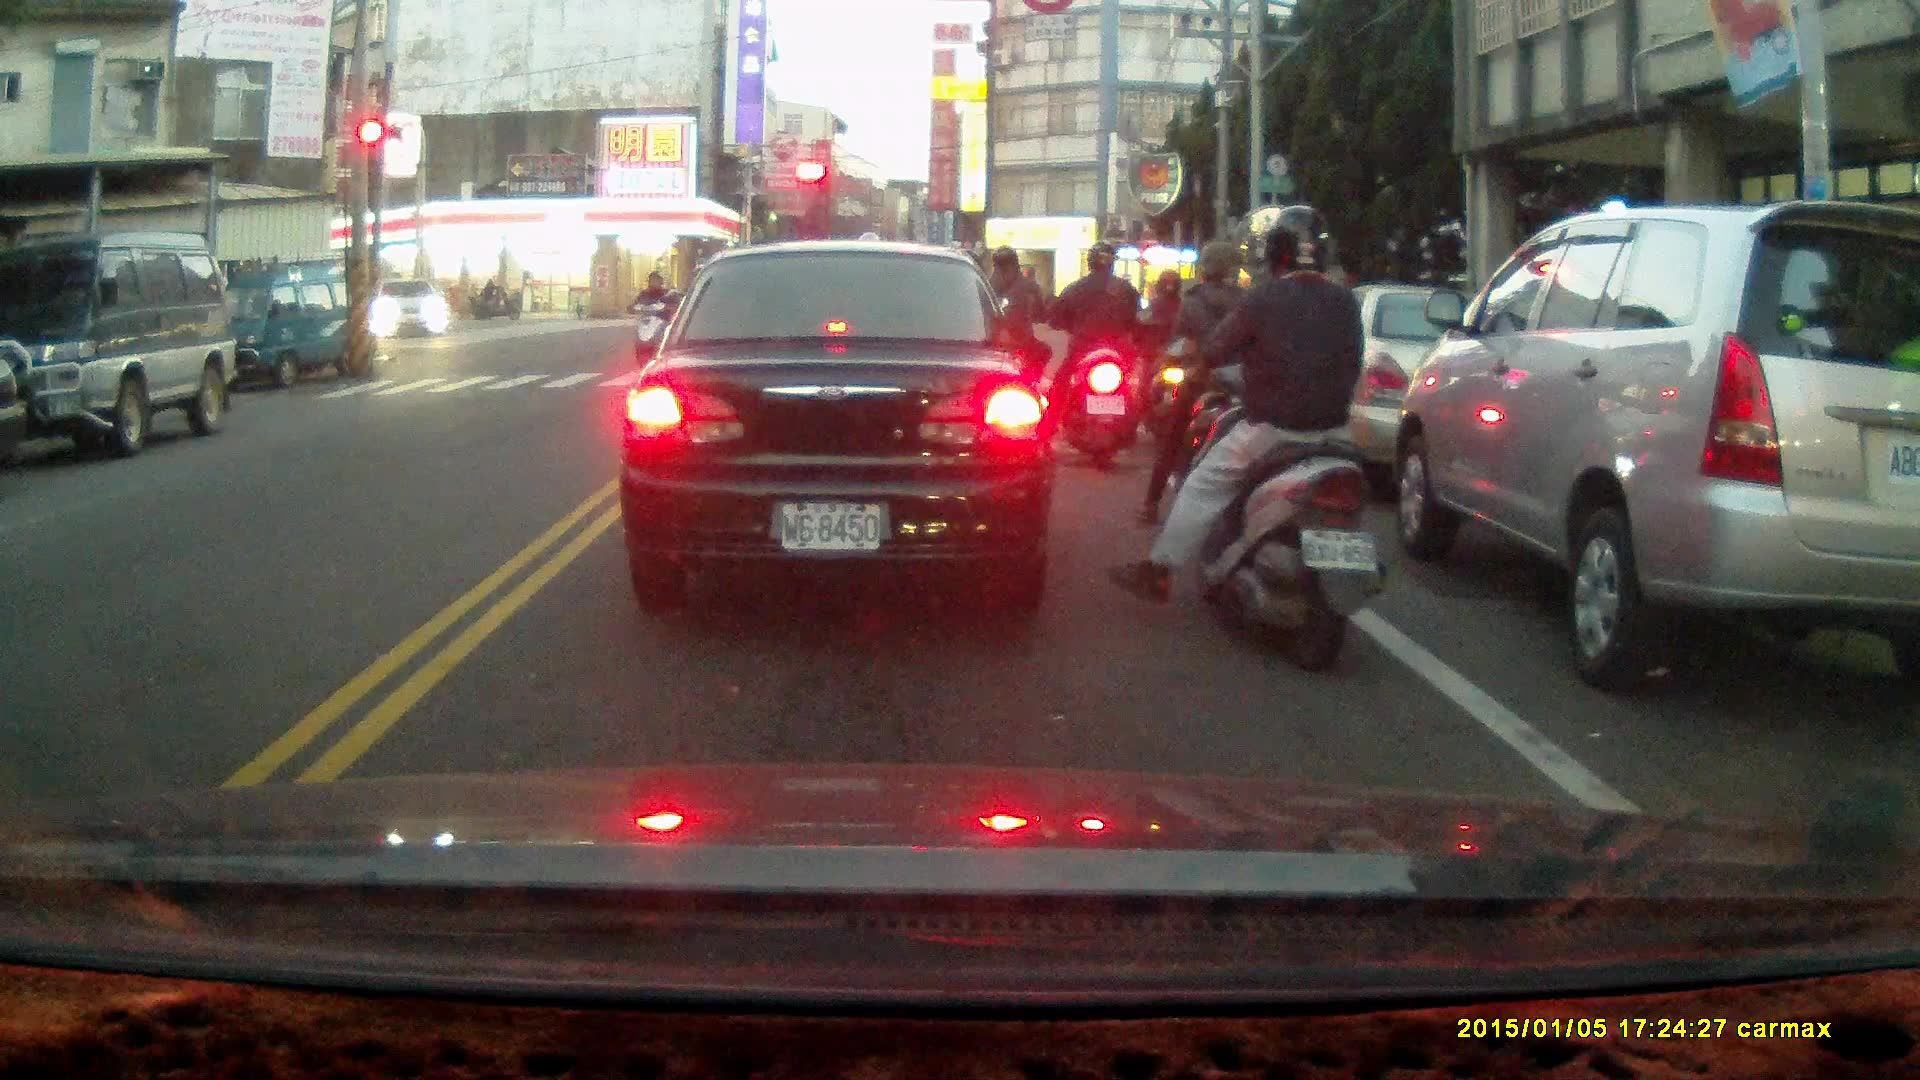pedestrian: (477, 277, 501, 321)
rider: (1107, 204, 1389, 674), (1136, 241, 1267, 544), (1048, 243, 1141, 469), (963, 245, 1049, 448), (1134, 269, 1204, 450), (628, 271, 679, 390)
vehicle: (1384, 195, 1920, 685), (617, 243, 1061, 606), (1, 234, 239, 458), (194, 255, 381, 395), (372, 277, 451, 343)
